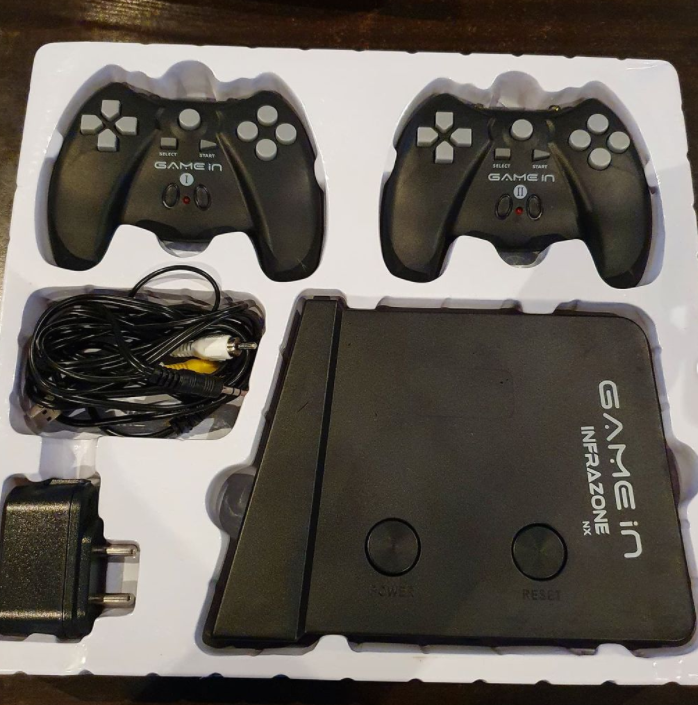gamingconsole: (42, 83, 326, 285), (382, 94, 650, 288)
